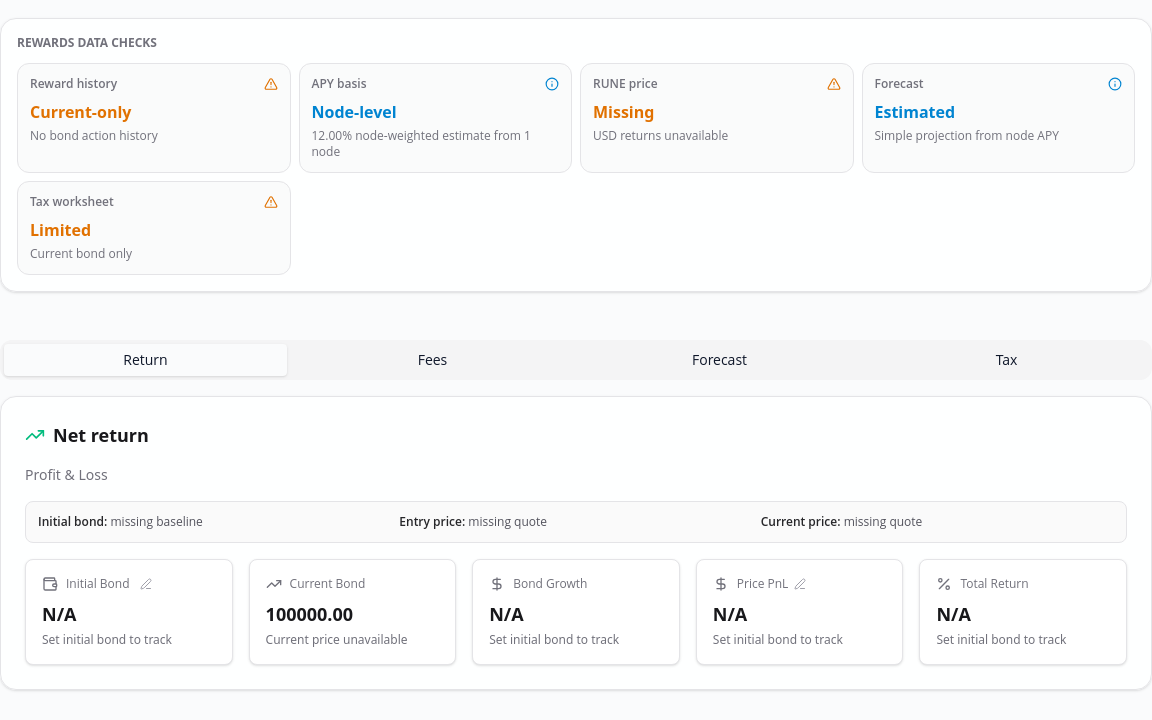
Test: RewardsPage › frames the tax export as a worksheet rather than a filing-ready report
(page scrolled)
Click the tab "Tax" at (1006, 360), box [865,344,1148,376]
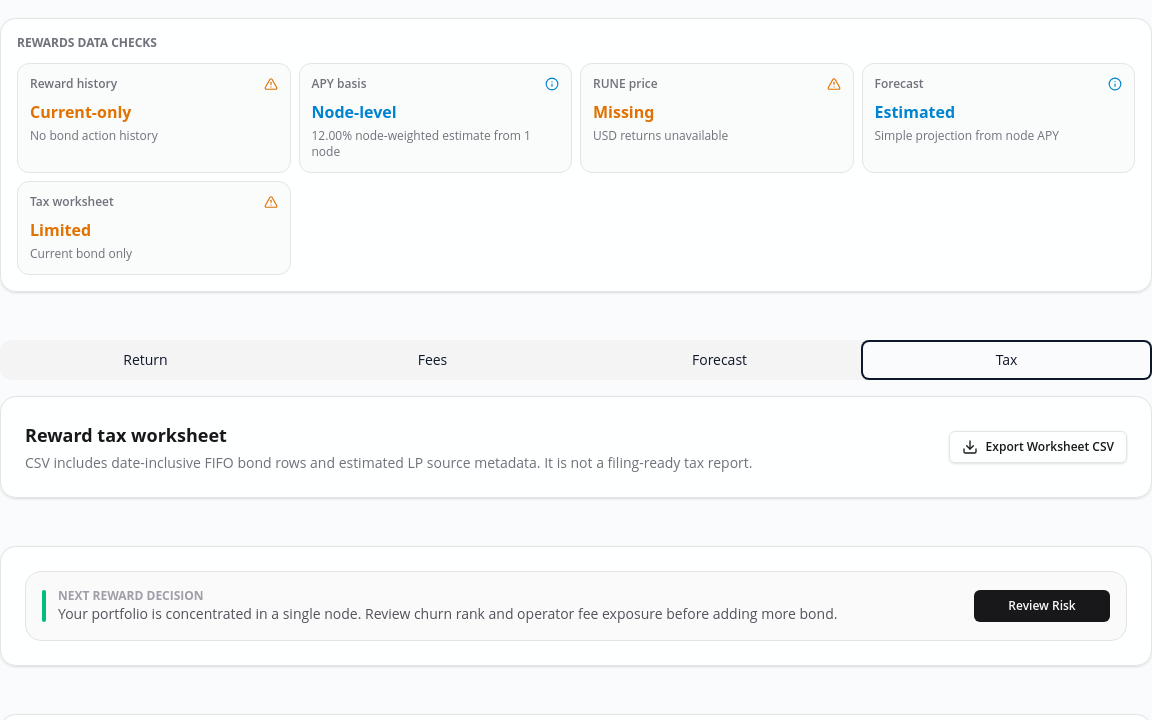
Check: the heading "Reward tax worksheet" is shown, box [25,423,227,447]
Check: the text "not a filing-ready tax report" is shown, box [25,453,752,472]
Check: the button "Export Worksheet CSV" is shown
Click the button "Export Worksheet CSV" at (1038, 447), box [949,431,1127,463]
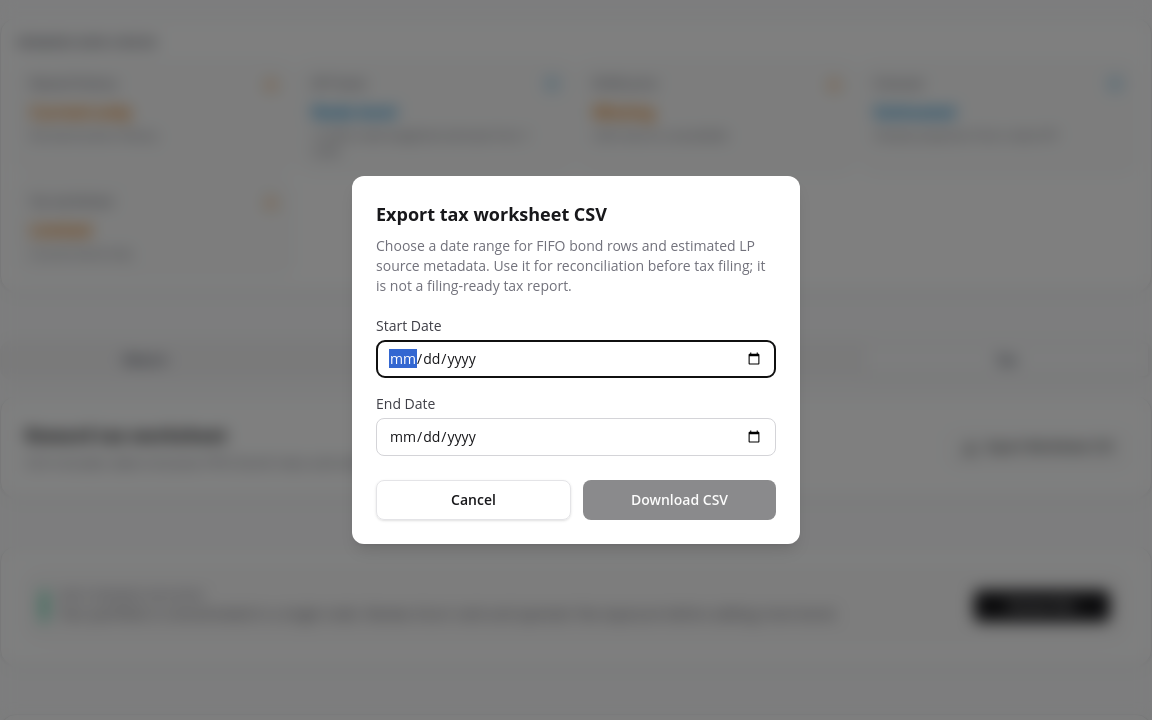
Check: the heading "Export tax worksheet CSV" is shown, box [376,202,607,226]
Check: the text "Use it for reconciliation before tax filing" is shown, box [376,236,765,295]
